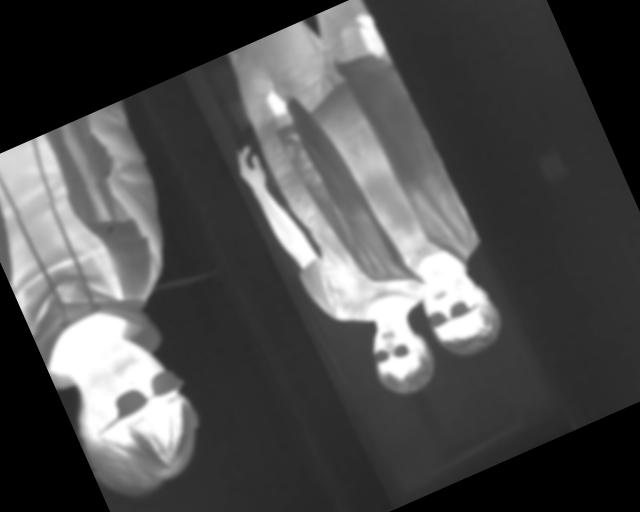face: (48, 323, 216, 512), (411, 256, 510, 366), (358, 308, 443, 404)
